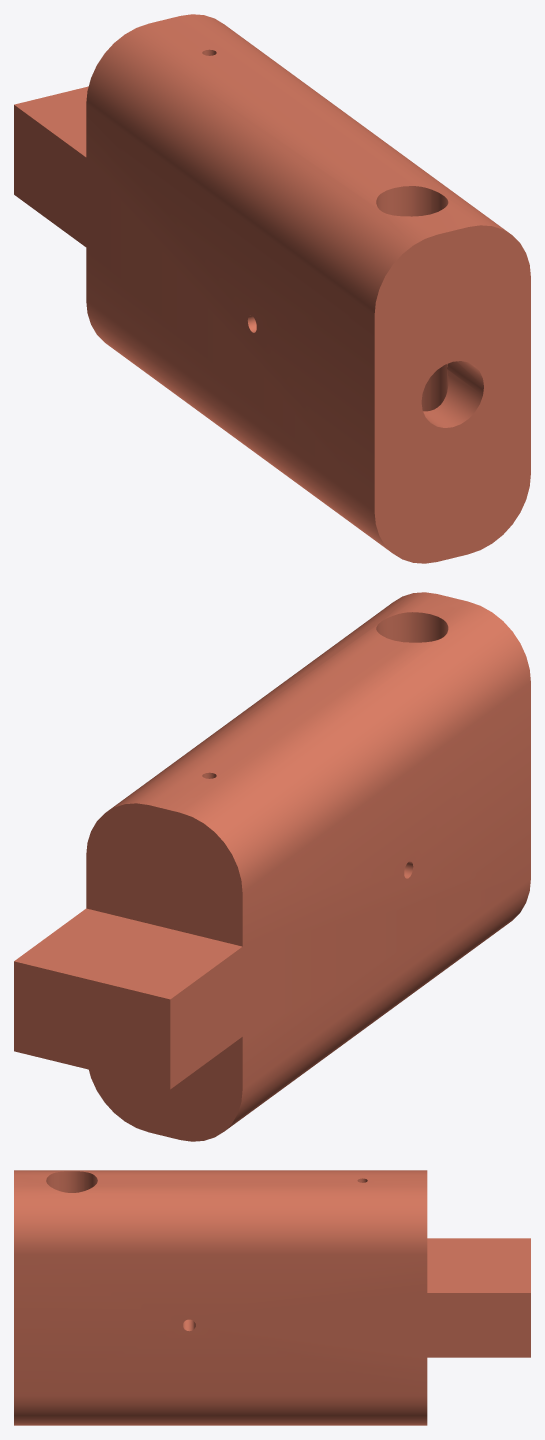
The picture shows the model from 3 angles, top to bottom: view 1: azimuth 30°, elevation 25°; view 2: azimuth 150°, elevation 25°; view 3: azimuth 270°, elevation 25°; orthographic projection. The views are drawn at different scales.
Visible parts, largest first — view 1: node0; view 2: node0; view 3: node0.
Boxes of the visible parts, x1,y1,x2,y2 form: node0: [14, 14, 530, 563]; node0: [14, 592, 530, 1141]; node0: [14, 1170, 530, 1425].
Bounding box in the file's own units: 0.05 × 0.1 × 0.1997.
